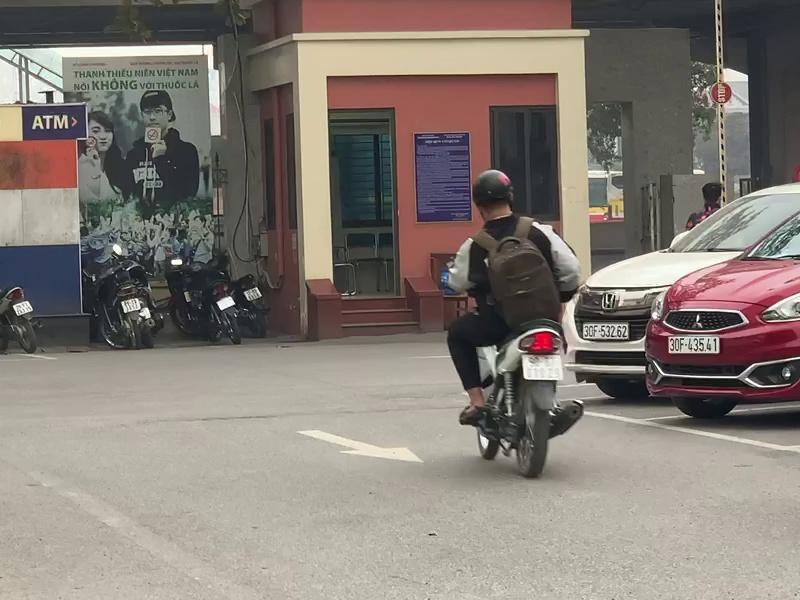helmet: (471, 167, 513, 208)
license_plate: (518, 350, 567, 384), (119, 294, 142, 314), (241, 284, 264, 303), (213, 294, 236, 312), (11, 299, 34, 316)
motorcyclist: (446, 166, 585, 482)
